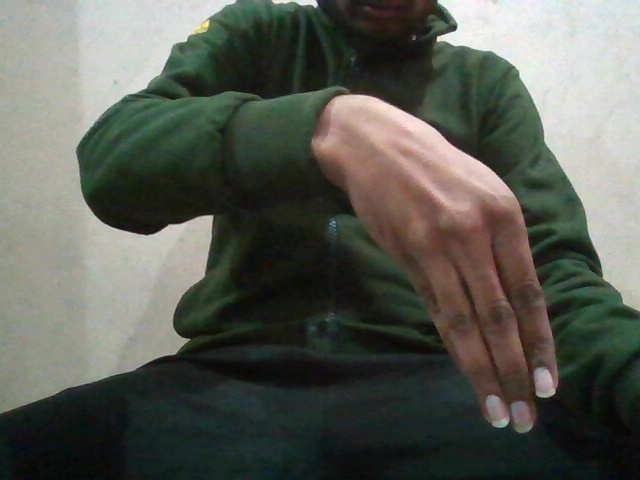M: (335, 111, 582, 439)
